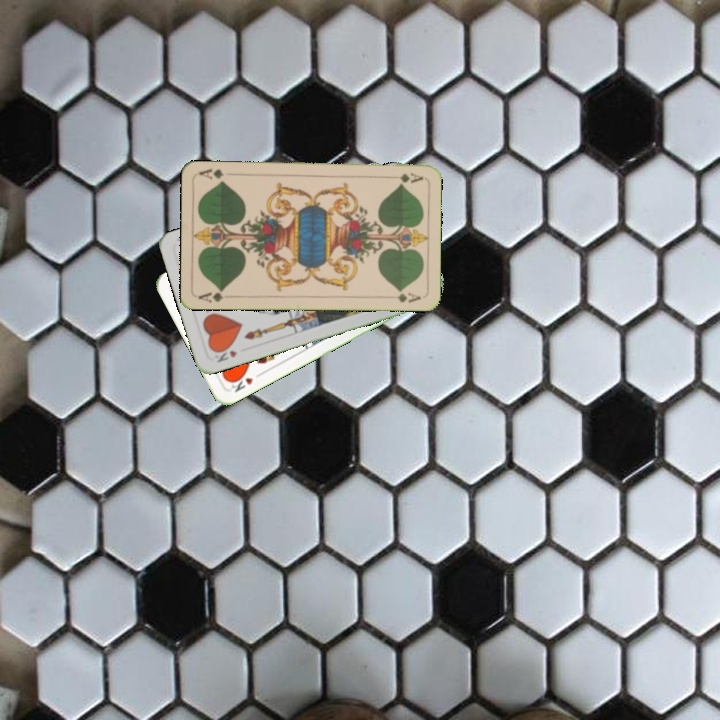GA: (385, 168, 425, 185), (195, 285, 227, 305)
HK: (226, 370, 256, 395), (208, 342, 240, 365)
